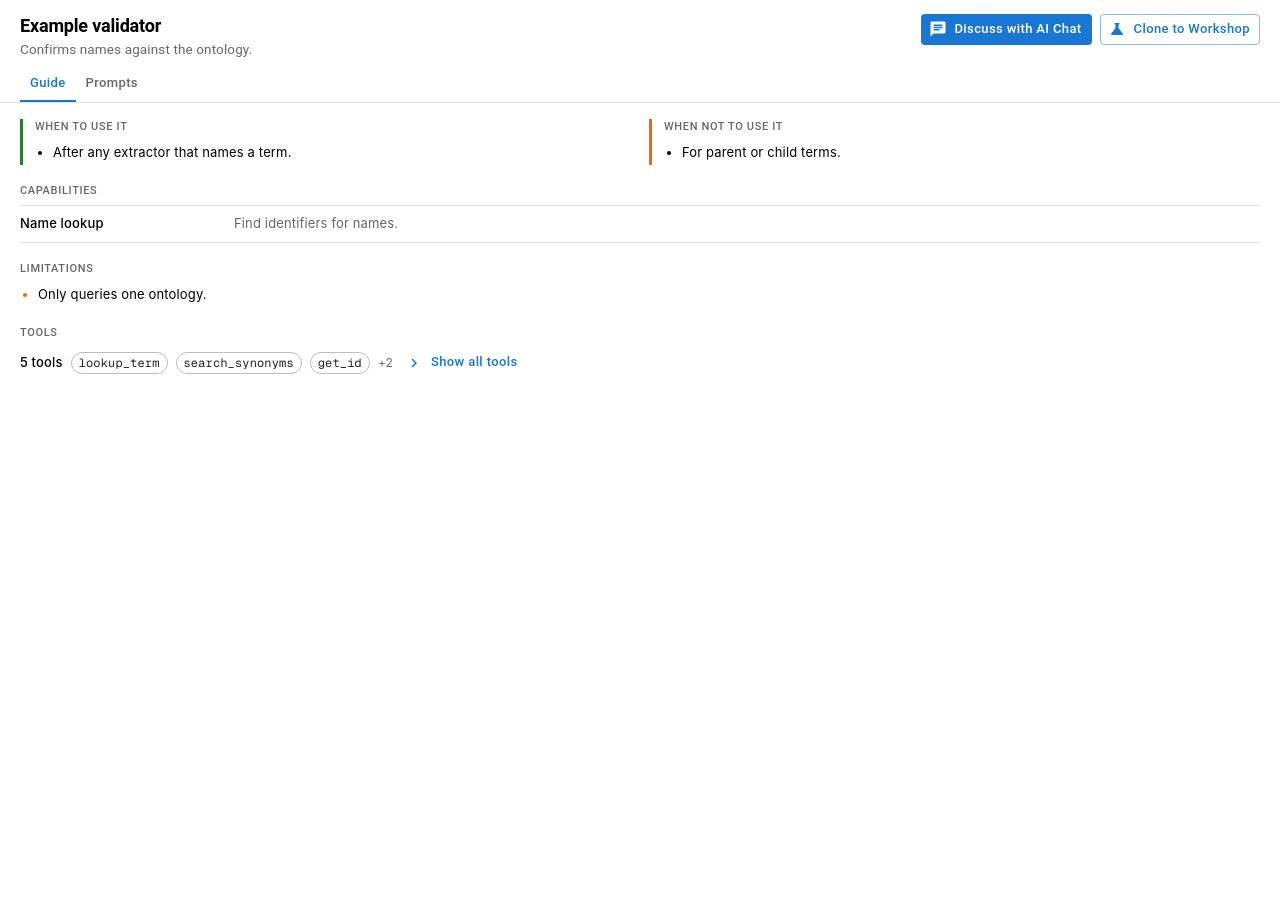
Test: AgentDetailsPanel › opens ToolDetailsDialog from the tools table Details link
Click the button "Show all tools": x=462, y=362 top-left (401, 347), bottom-right (524, 378)
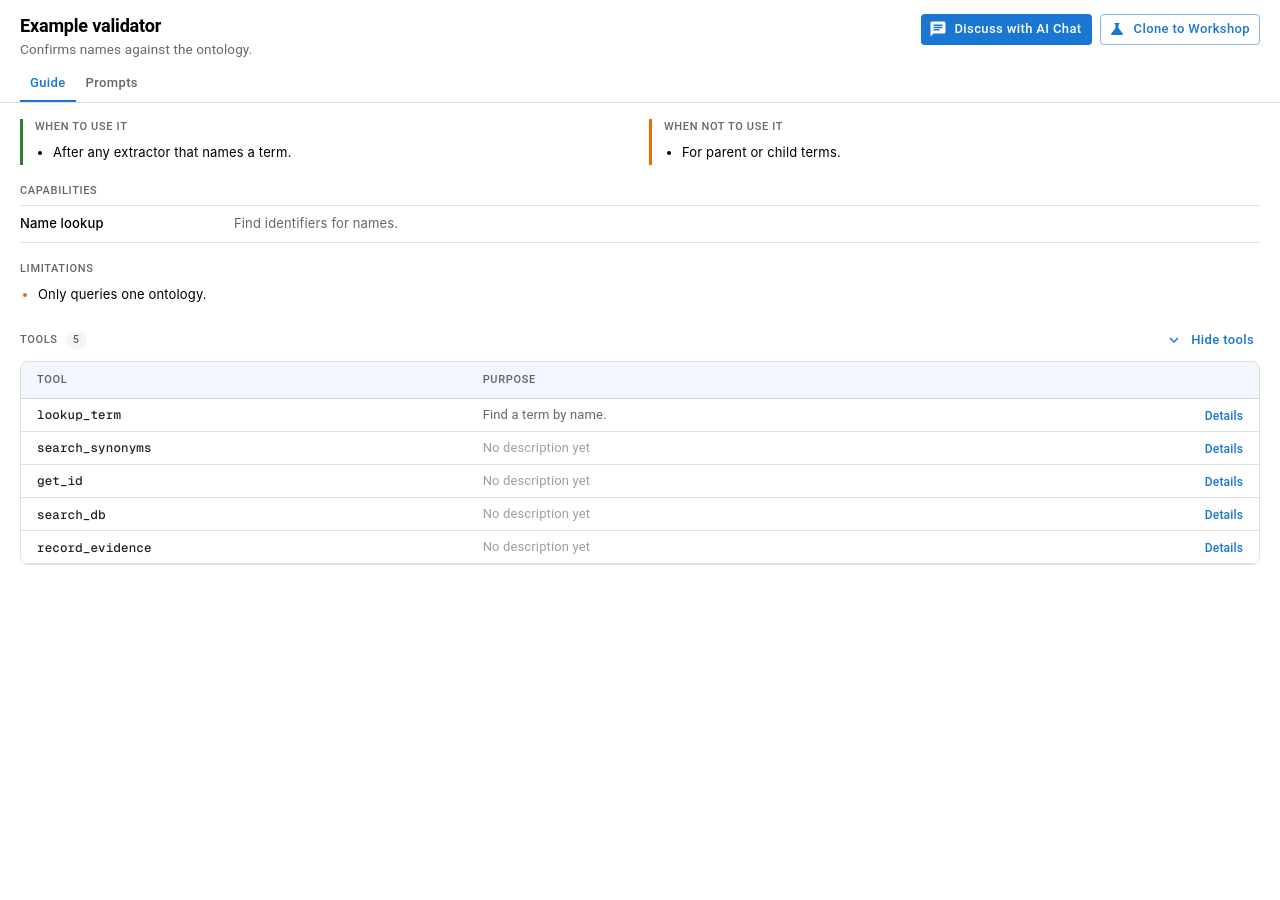
Expected: the text "Find a term by name." is shown, top-left (467, 399), bottom-right (1171, 432)
Click the button with aria-label "Details for search_db": x=1224, y=516 top-left (1205, 507), bottom-right (1243, 524)
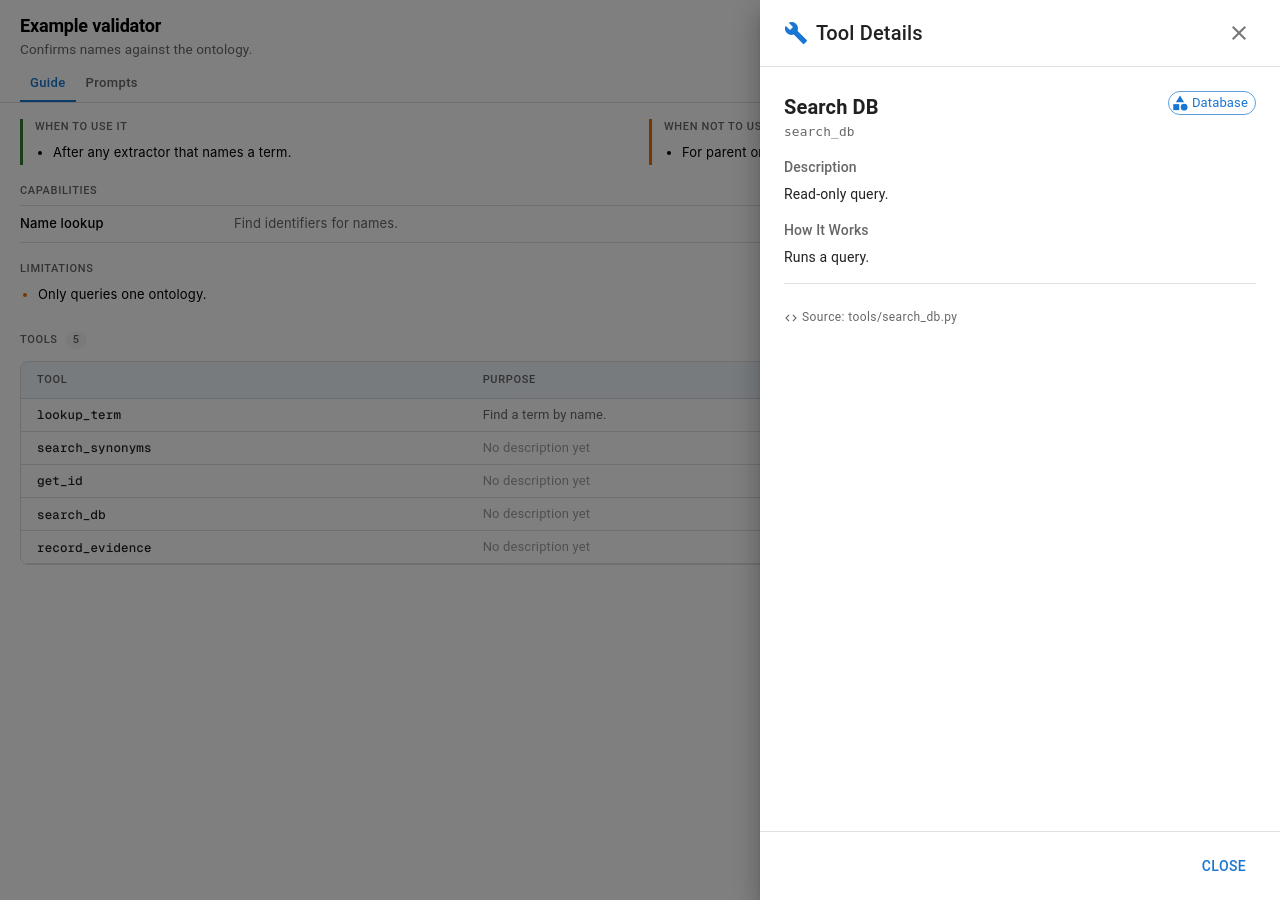
Expected: the heading "Tool Details" is shown, top-left (816, 21), bottom-right (923, 45)
Expected: the heading "Search DB" is shown, top-left (784, 91), bottom-right (879, 123)
